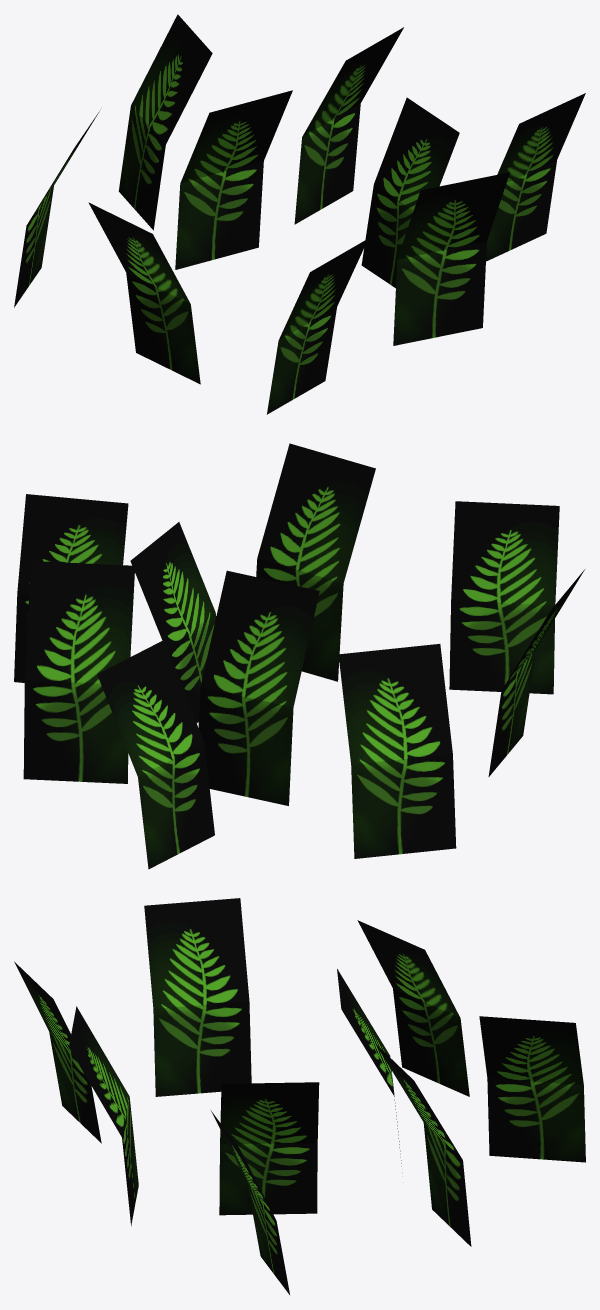
File: FernSmall1.fbx
The picture shows the model from 3 angles, top to bottom: view 1: azimuth 30°, elevation 25°; view 2: azimuth 150°, elevation 25°; view 3: azimuth 270°, elevation 25°; orthographic projection. The views are drawn at different scales.
Visible parts, largest first — view 1: Plane.008; view 2: Plane.008; view 3: Plane.008.
Part boxes in pixels (x1=…): Plane.008: x1=14, y1=14, x2=585, y2=414; Plane.008: x1=14, y1=443, x2=584, y2=869; Plane.008: x1=14, y1=898, x2=585, y2=1294.
Bounding box in the file's own units: 0.8679 × 0.3 × 0.8772.
